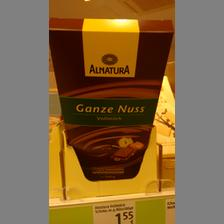Schokolade: (48, 16, 172, 180)
